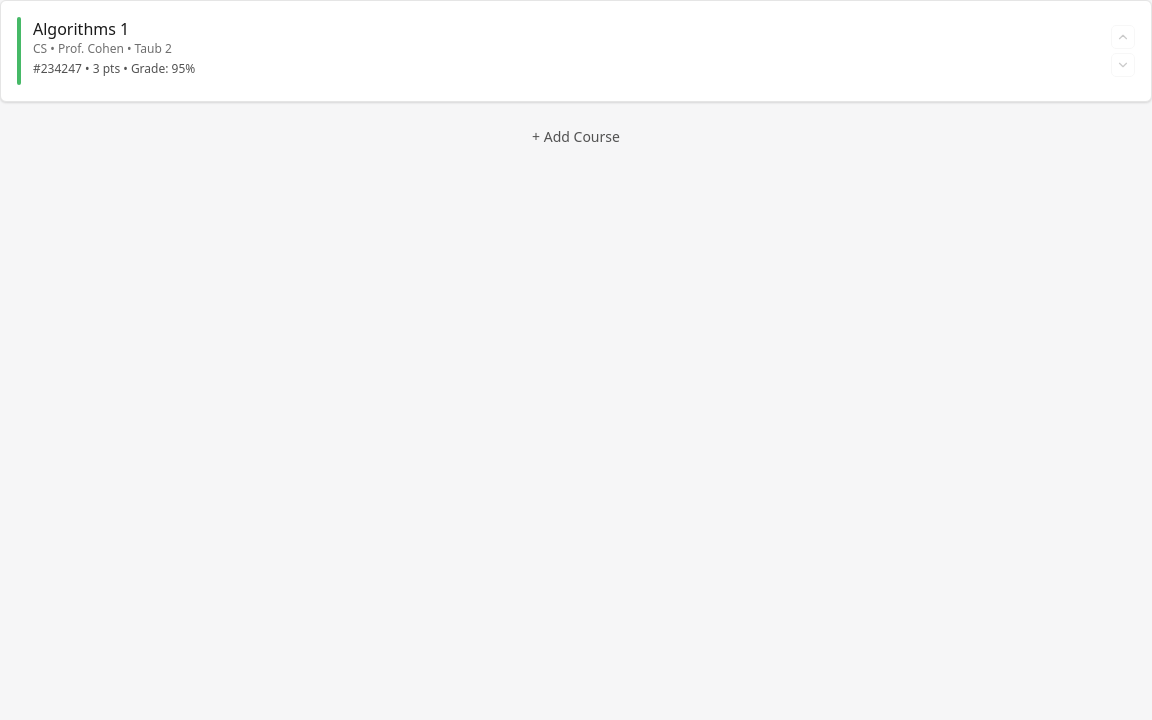
it: CourseList › edits a course via its card
Click the button named "edit algorithms 1" at (576, 51), box [1,1,1151,101]
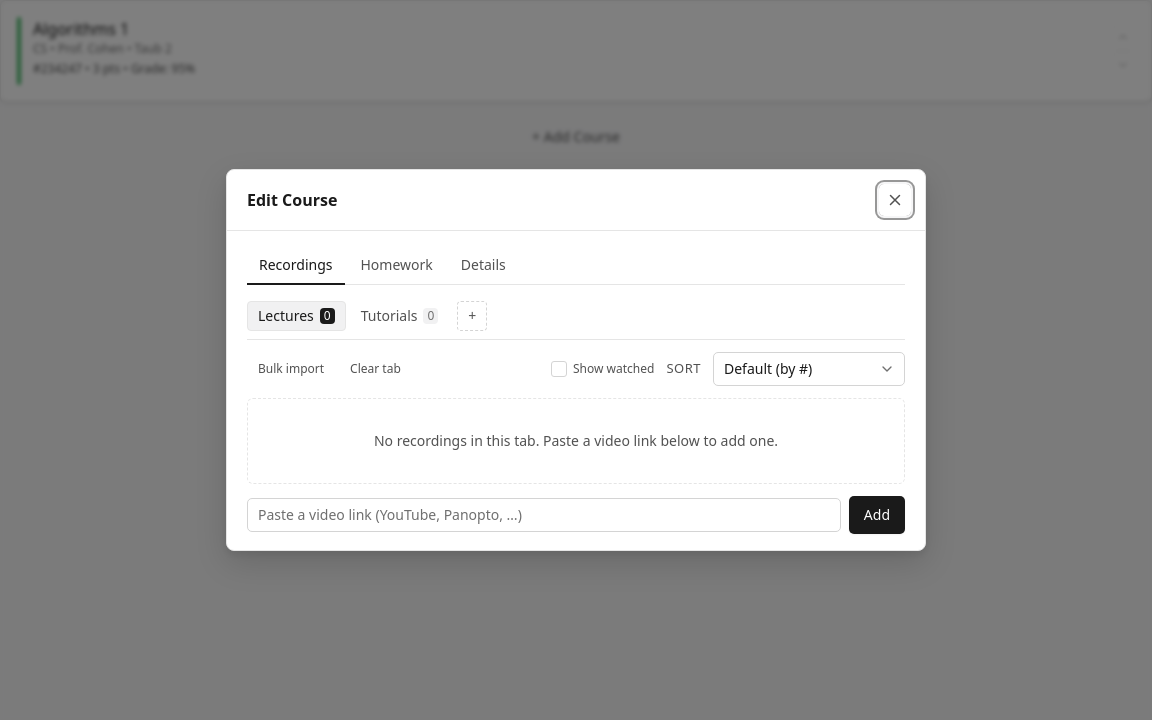
Click the tab "Details" at (483, 266), box [449,247,518,285]
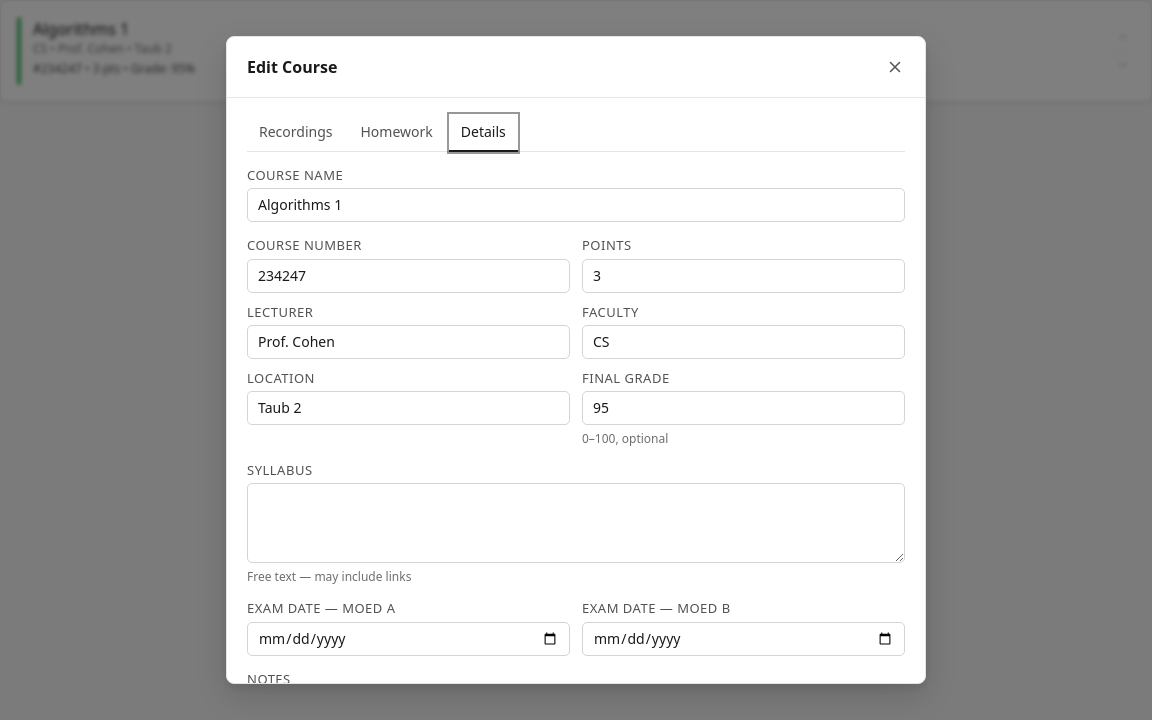
Replace the text in the field labelled "Course name" with "Algorithms 1m" at (576, 205), box [247,188,905,222]
(page scrolled)
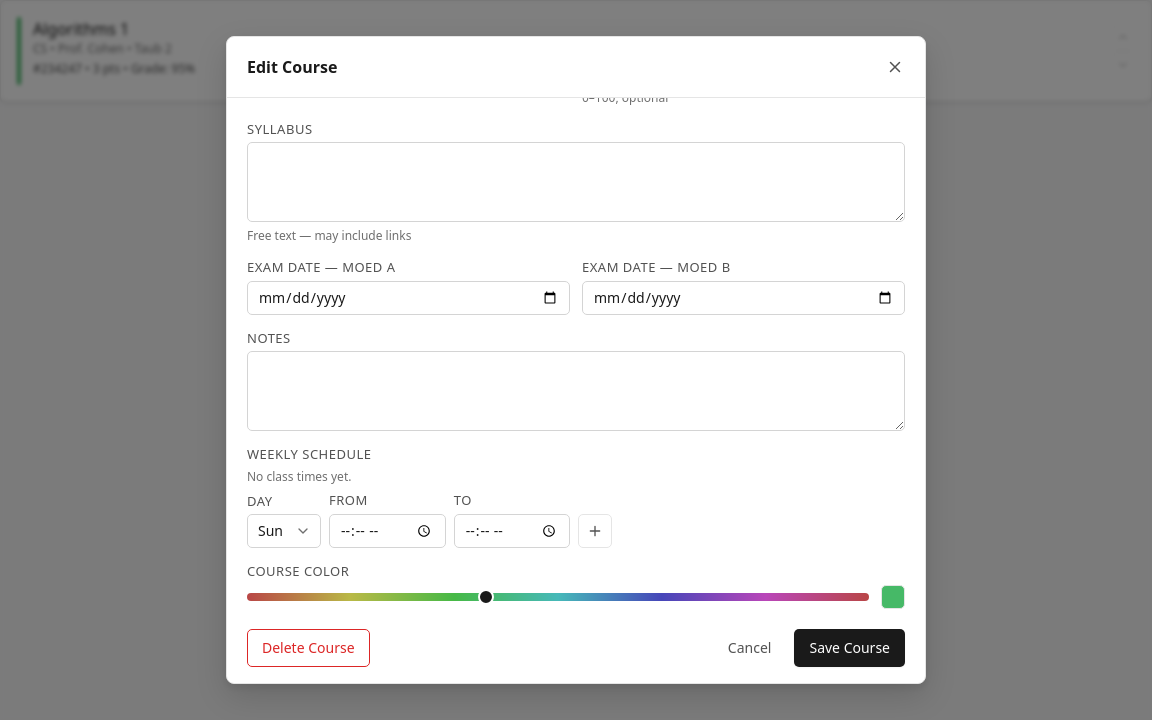
Click the button "Save Course" at (850, 648), box [794,629,905,667]
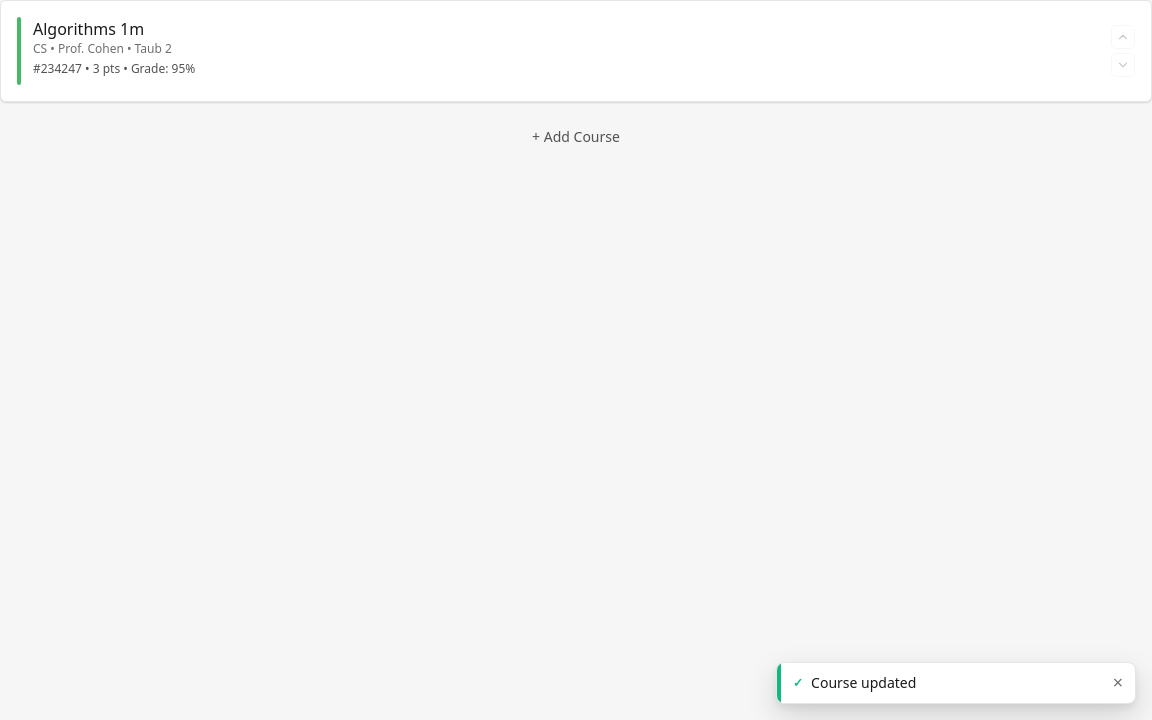
Check: the text "Algorithms 1m" is shown, box [33,18,144,40]
